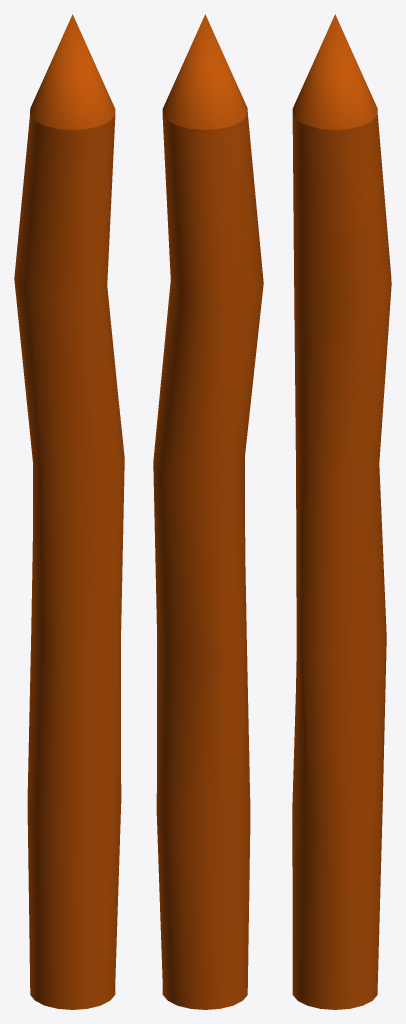
Rendered from 3D_Log01_Low.fbx.
3 views of the same model, side by side, from view 1: azimuth 30°, elevation 25°; view 2: azimuth 210°, elevation 25°; view 3: azimuth 270°, elevation 25° (orthographic).
Visible parts, largest first — view 1: LogLow001; view 2: LogLow001; view 3: LogLow001.
Part boxes in pixels (x1=…): LogLow001: x1=14, y1=14, x2=124, y2=1009; LogLow001: x1=153, y1=14, x2=263, y2=1009; LogLow001: x1=292, y1=14, x2=391, y2=1009.
Size of the model in its own units: 24.28 by 250 by 22.99.
